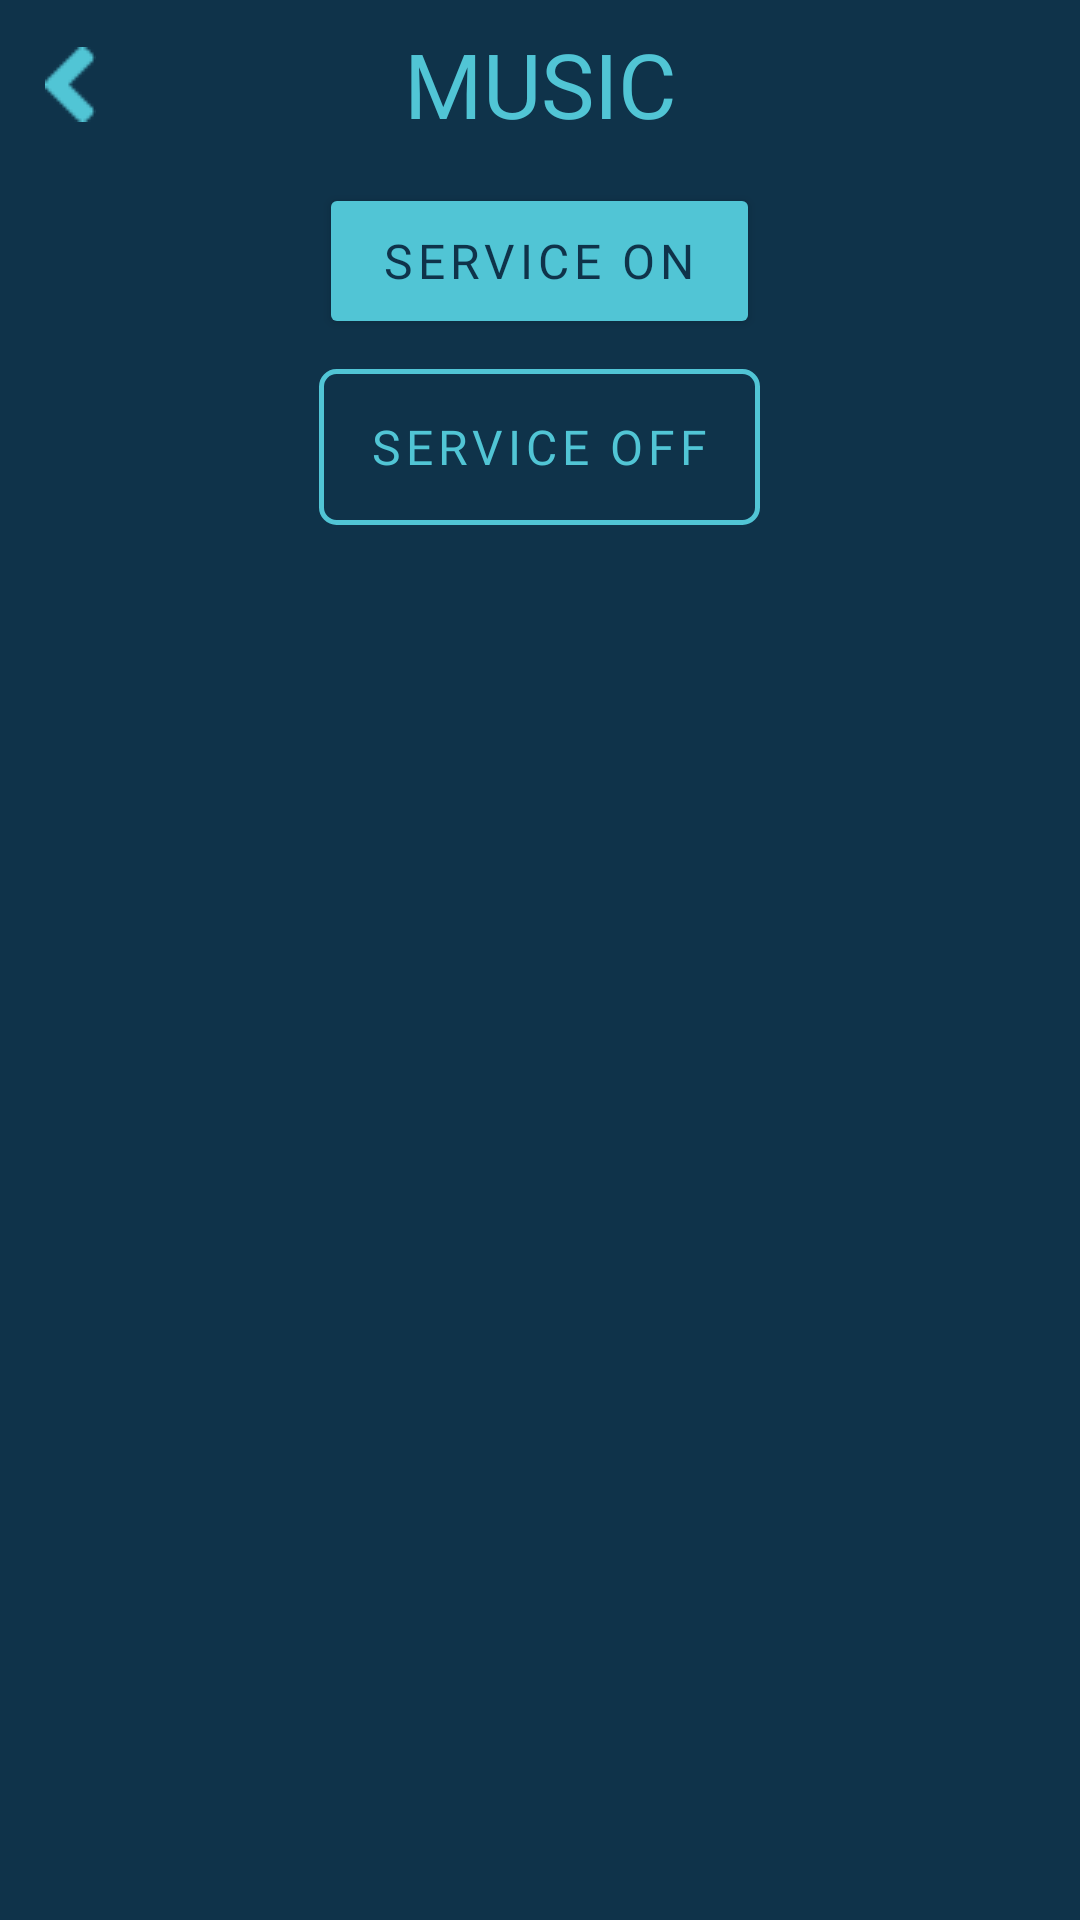

Icon click points for this 1080×1920 phone screenshot, format point (x, y):
back arrow: point (69, 84)
